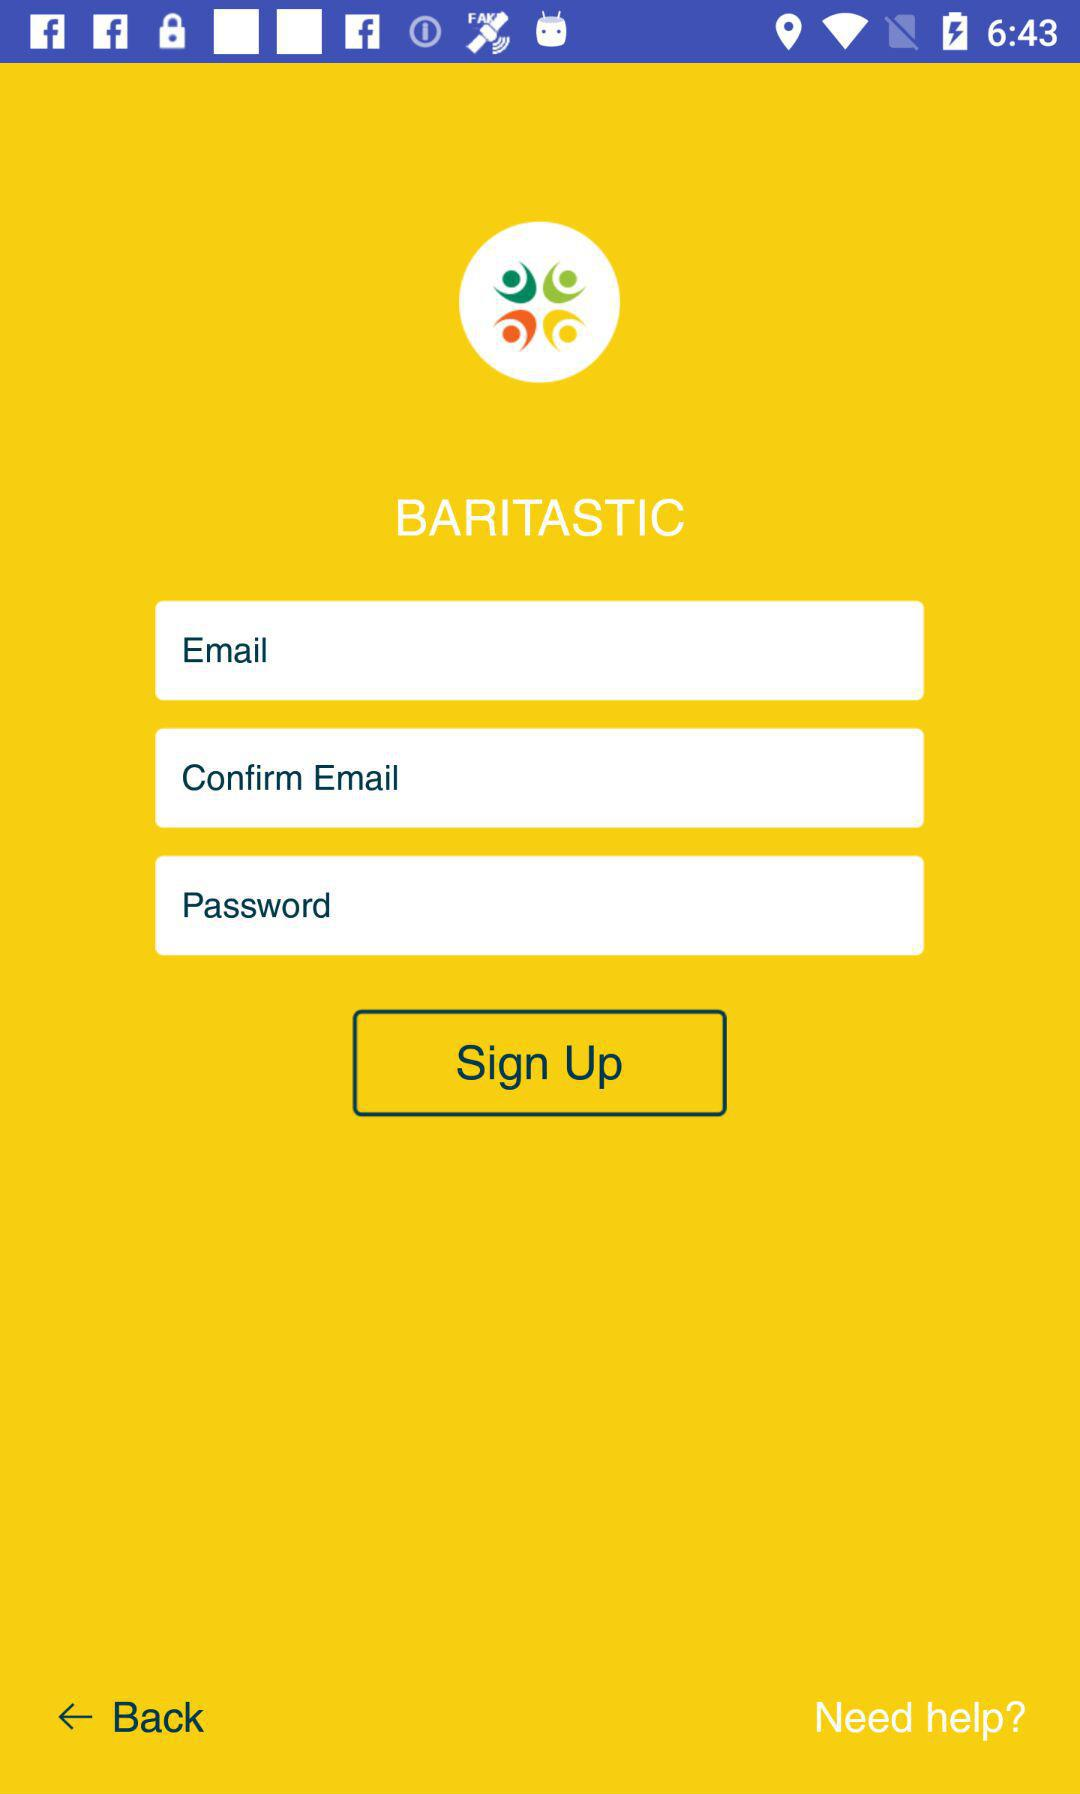EditText: (155, 600, 925, 702), (155, 856, 925, 957), (155, 729, 925, 829)
Icon: (58, 1702, 94, 1731)
Image: (457, 222, 623, 384)
Text: (397, 497, 685, 539), (815, 1699, 1027, 1743), (183, 762, 398, 792), (184, 891, 331, 919), (114, 1700, 206, 1732), (184, 637, 268, 664)
TextButton: (352, 1008, 728, 1117)
UpperTaskBar: (1, 1, 1080, 64)
